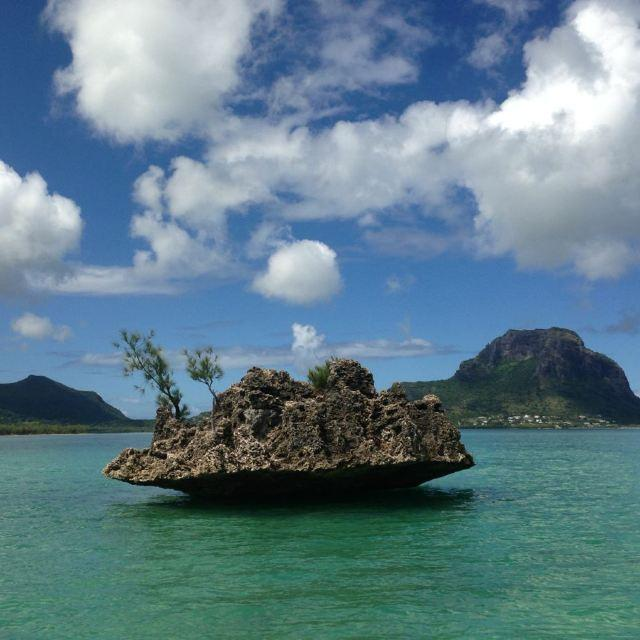island: (384, 313, 640, 436), (0, 362, 167, 435)
